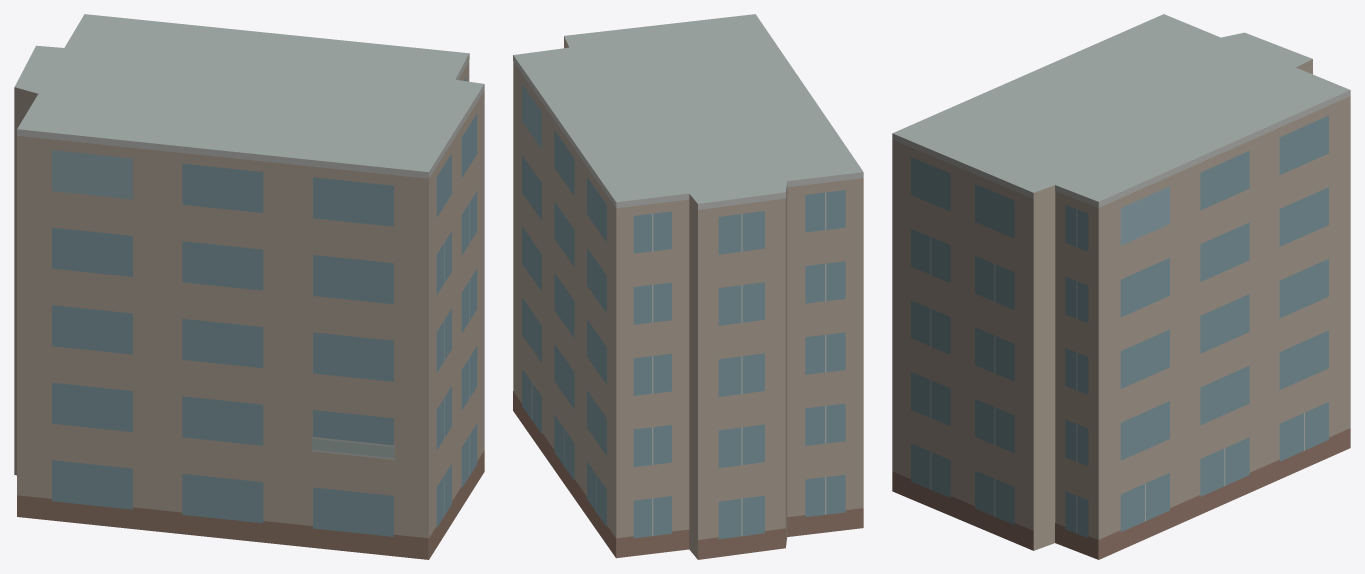
The model's file is survey-upis-32884995.glb.
3 views of the same model, side by side, from view 1: azimuth 30°, elevation 25°; view 2: azimuth 150°, elevation 25°; view 3: azimuth 270°, elevation 25° (orthographic). The views are drawn at different scales.
Parts seen in each view (by area): view 1: survey-upis-32884995.tmp; view 2: survey-upis-32884995.tmp; view 3: survey-upis-32884995.tmp.
Part boxes in pixels (x1=…): survey-upis-32884995.tmp: x1=14, y1=14, x2=484, y2=559; survey-upis-32884995.tmp: x1=513, y1=14, x2=863, y2=559; survey-upis-32884995.tmp: x1=892, y1=14, x2=1350, y2=559.
Bounding box in the file's own units: 16.22 × 14.4 × 16.71.
